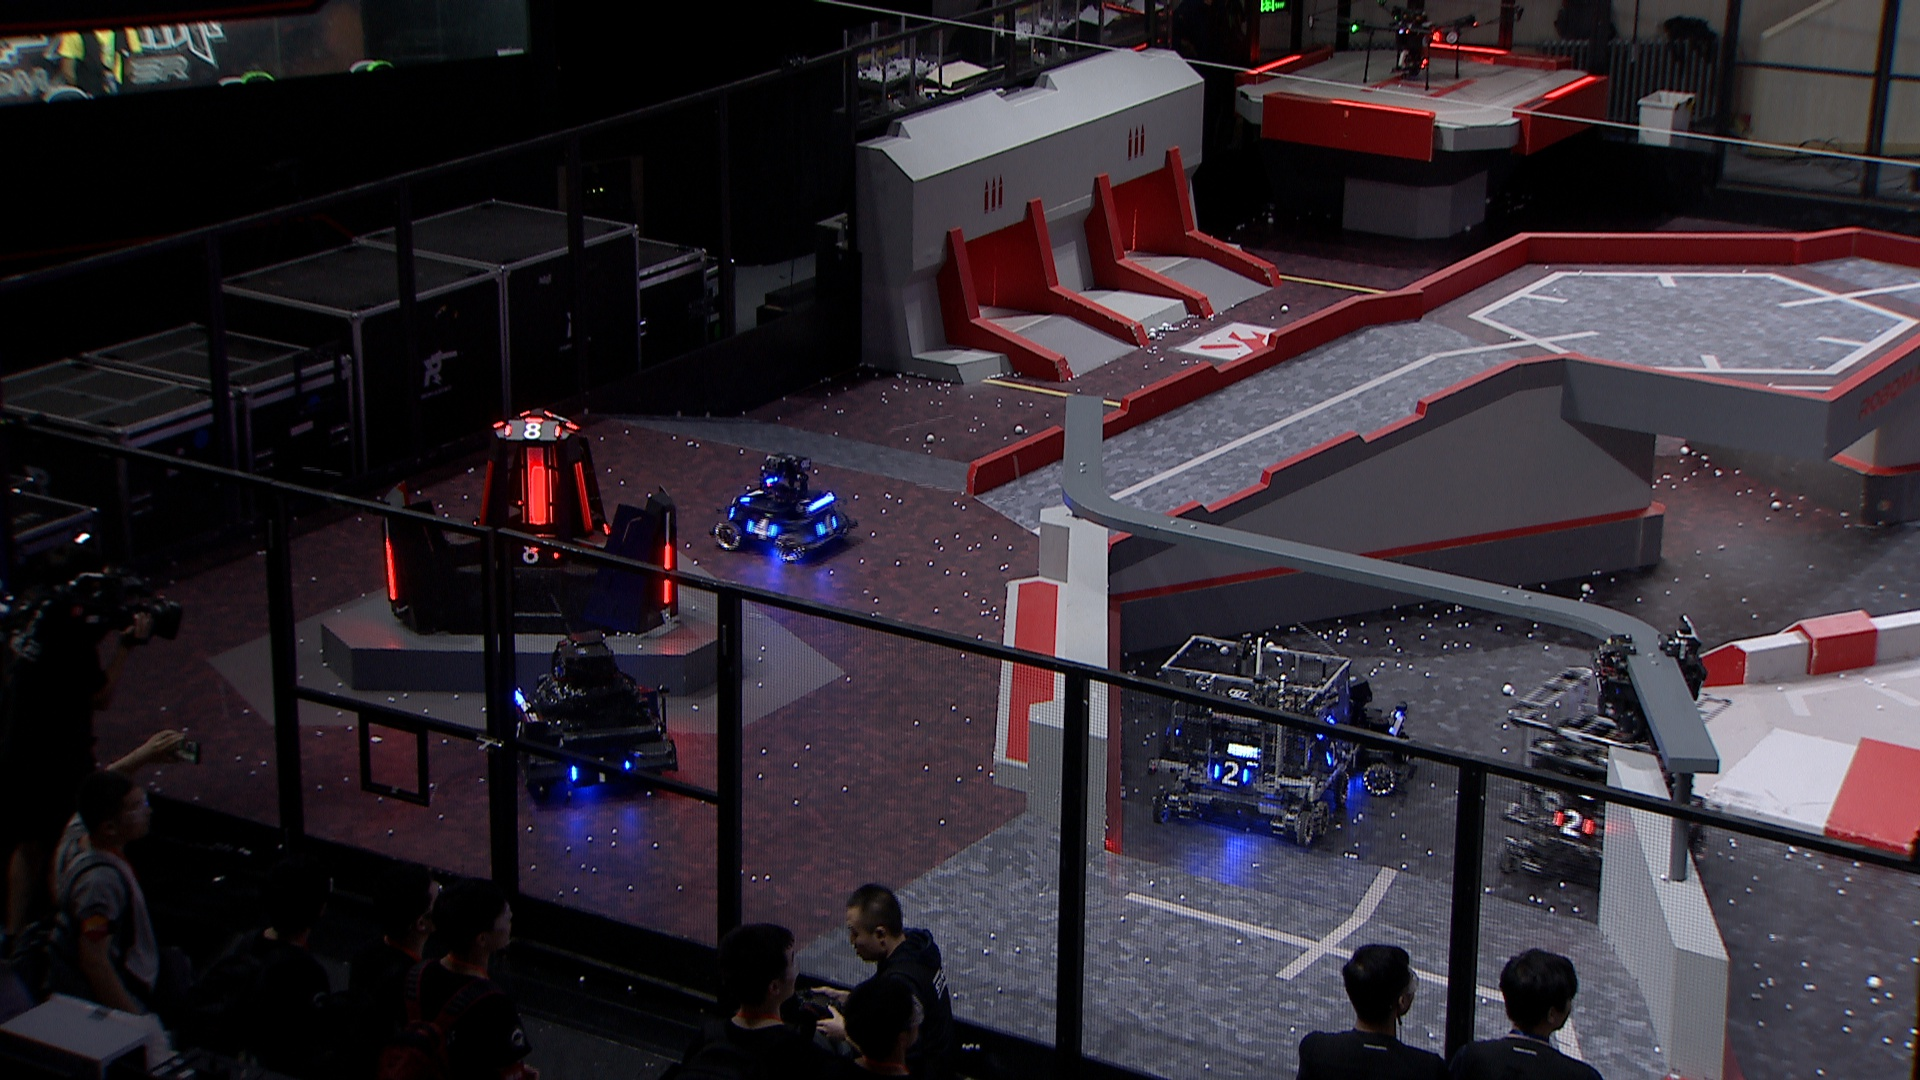armor: (518, 447, 558, 524), (498, 531, 567, 568), (571, 752, 633, 787), (469, 456, 500, 527), (570, 458, 597, 527), (1549, 807, 1598, 843), (377, 535, 401, 603), (504, 417, 564, 440), (655, 542, 678, 604), (745, 514, 785, 543), (808, 510, 845, 541), (1212, 760, 1247, 790), (1320, 741, 1349, 770), (736, 481, 766, 508), (508, 713, 531, 745)
base: (378, 407, 684, 636)
car: (1495, 665, 1721, 889), (1147, 632, 1353, 847), (501, 626, 684, 808), (712, 446, 861, 566), (1276, 673, 1420, 796)
watcher: (1588, 613, 1705, 746)
